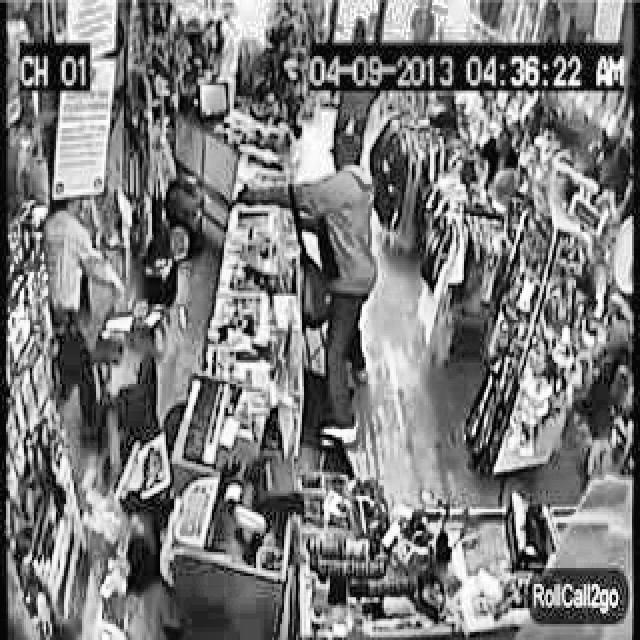robbery: (222, 132, 380, 446)
